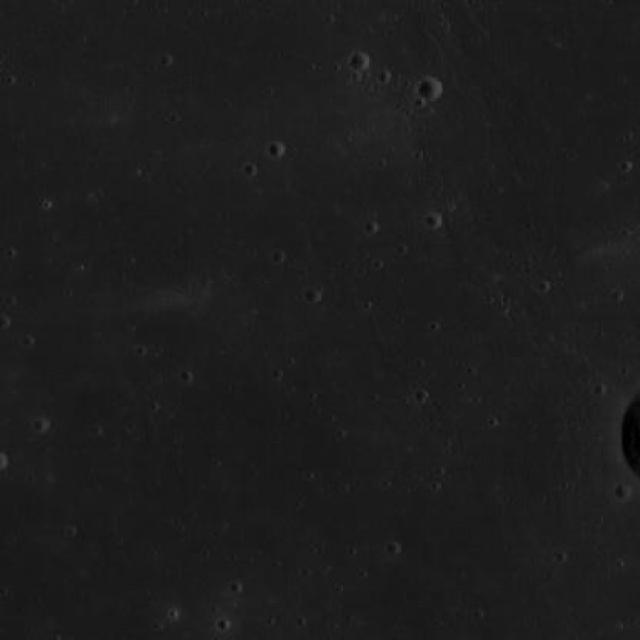crater: (420, 78, 443, 100), (352, 53, 370, 72), (616, 484, 632, 501), (270, 143, 286, 159), (428, 214, 443, 229)
